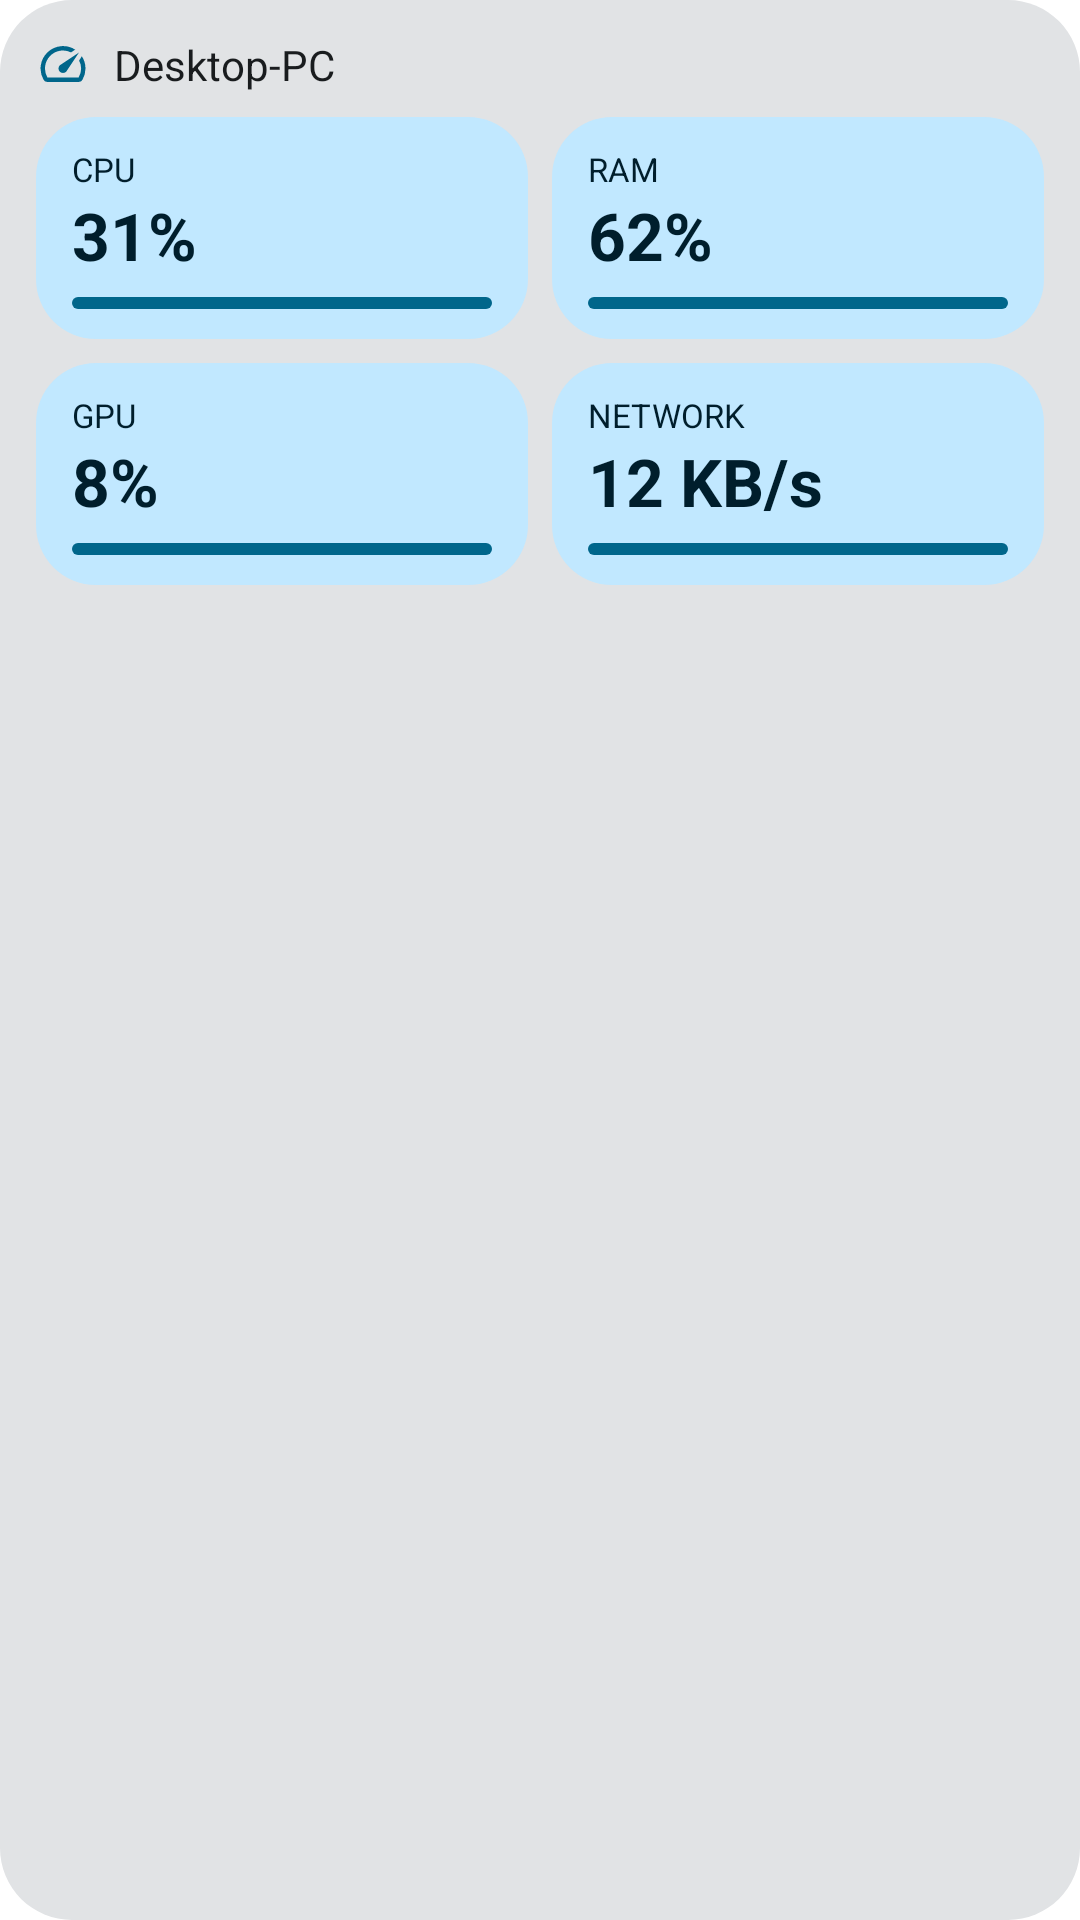

Where icons sit on this 1080x1920 app screen, as (x1, y1, x2, y2):
widget speed: (40, 46, 86, 82)
